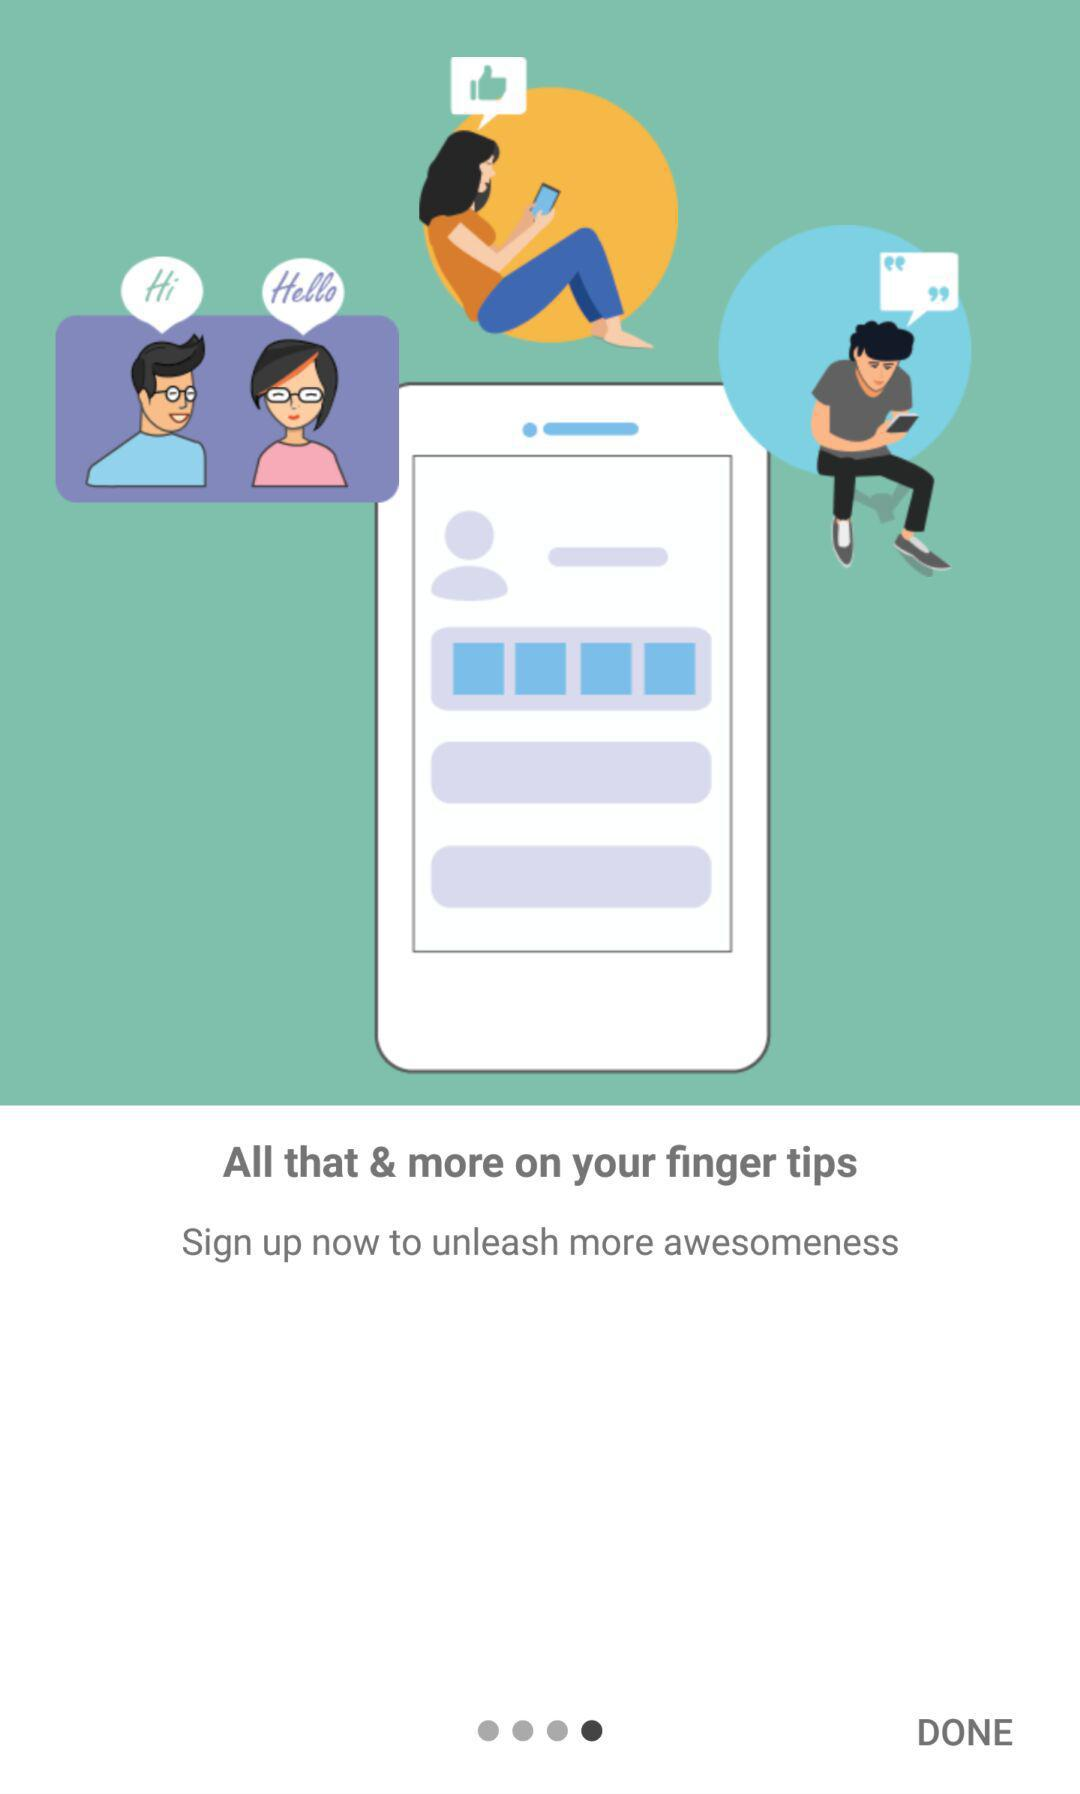Image: (54, 56, 974, 1074)
PageIndicator: (477, 1718, 603, 1743)
Text: (222, 1143, 858, 1187), (183, 1226, 899, 1263), (919, 1718, 1013, 1747)
